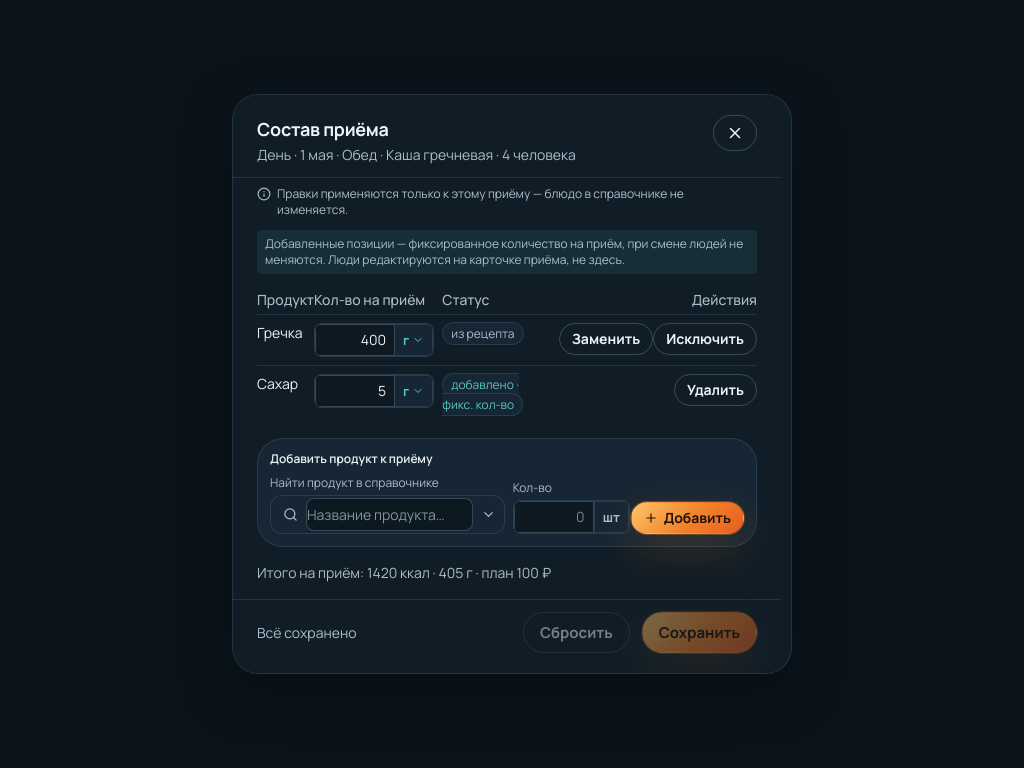
Test: MealCompositionModal — transparency-п.3: предупреждение о сбросе чека › отмена подтверждения — состав НЕ сохраняется
Expected: the text "Гречка" is shown, [257,323,302,342]
Click the button with aria-label "Исключить: Гречка". click: click(705, 339)
box: [653,323,757,355]
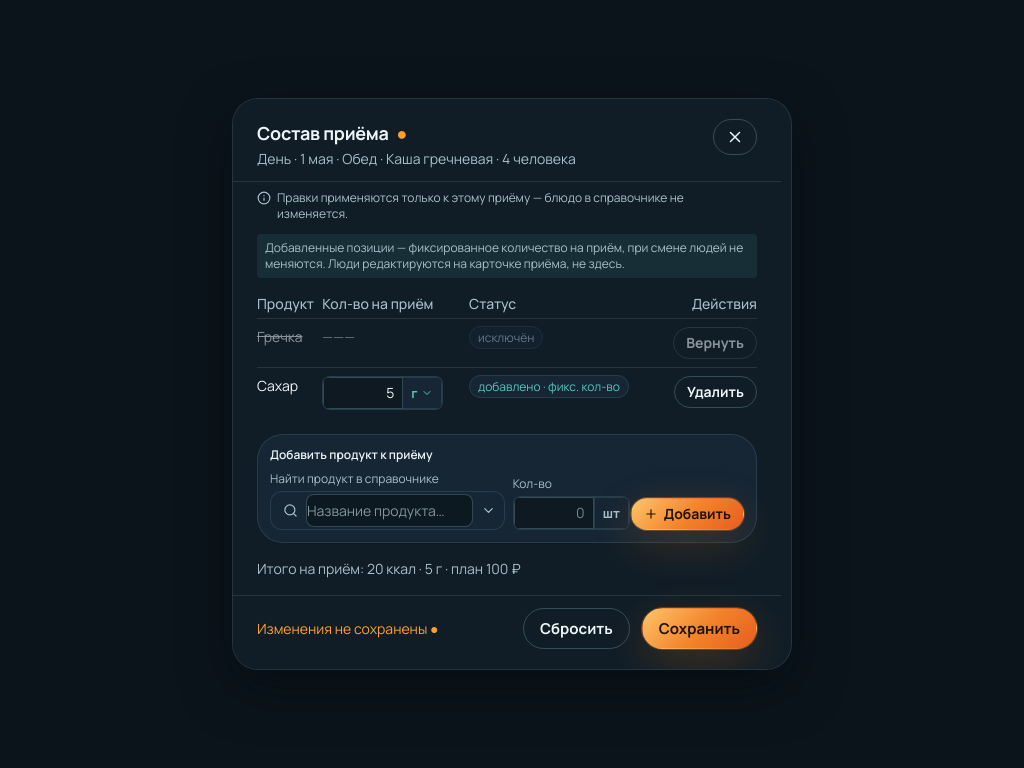
Click the button with aria-label "Сохранить состав". click: click(699, 628)
box: [642,608,757,649]
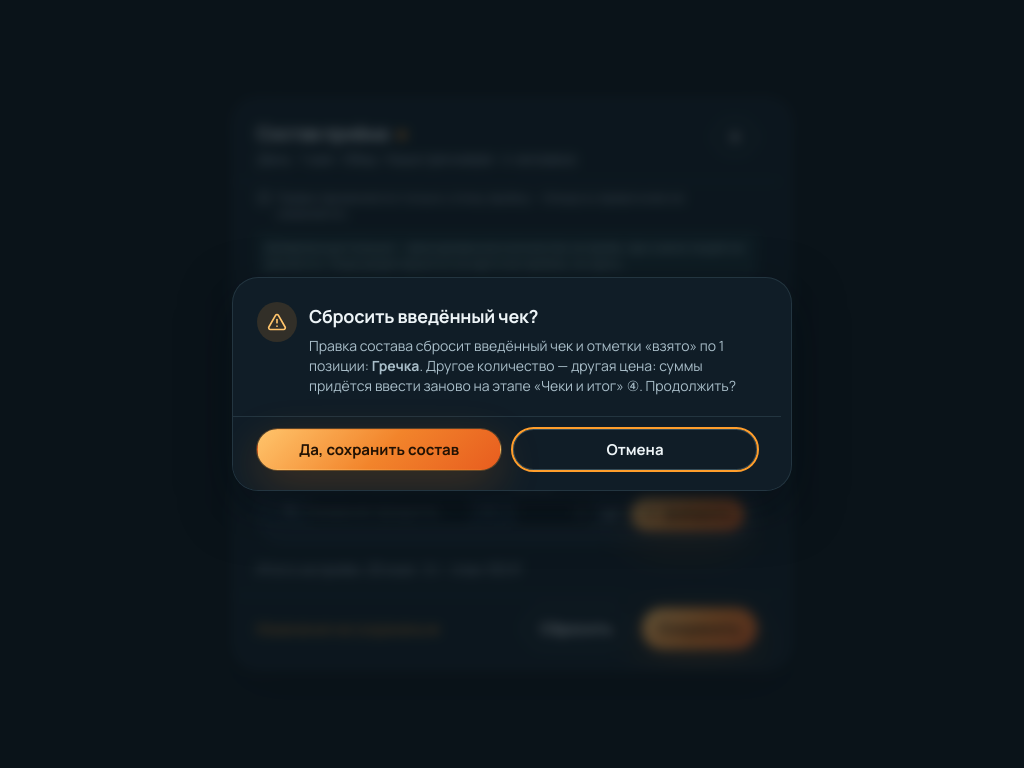
Click the button with test id "confirm-cancel". click: click(635, 450)
box: [513,429,757,470]
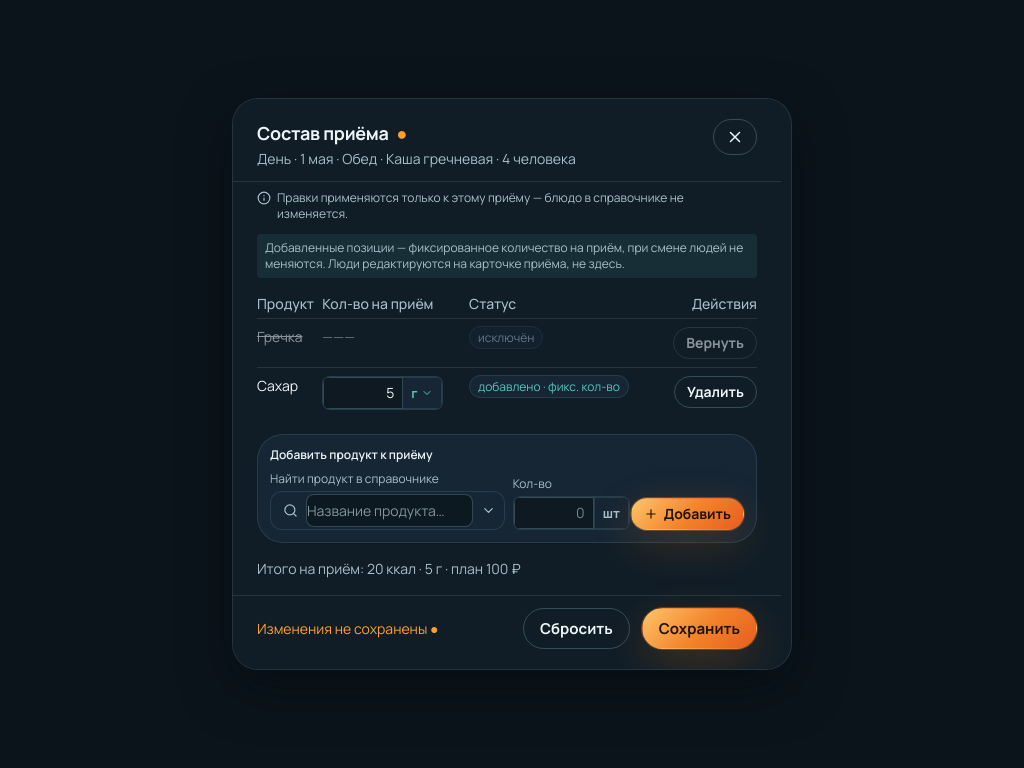
Now the button with test id "confirm-yes" is gone
